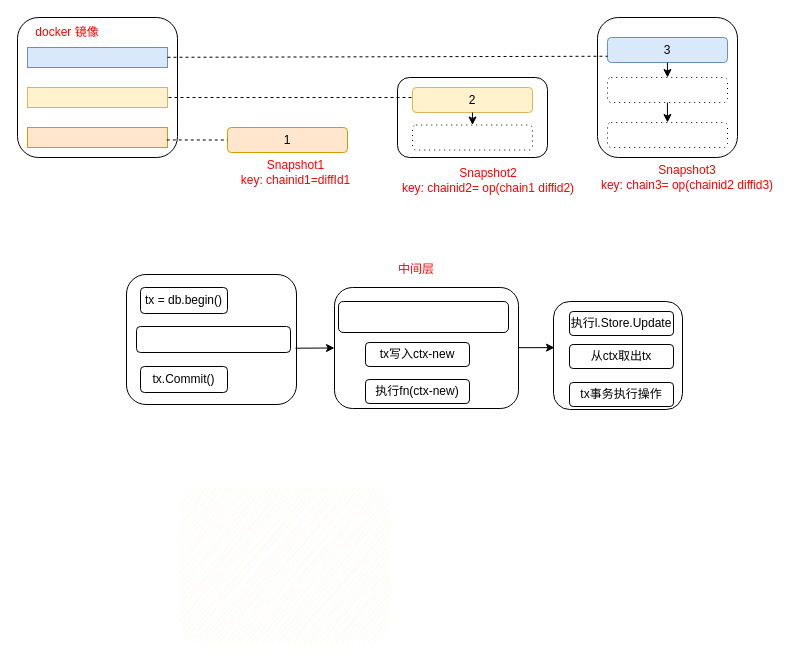
The diagram is 807 pixels wide and 660 high, and some of its shapes have lost their labels. Each missing label, with the centre of its shape:
1.tar.gz: [97,137]
2.tar.gz: [97,97]
3.tar.gz: [97,57]
fn(metadata. WithTransactionContext(ctx, tx): [423,316]
l.withStore(ctx, fn)(tx): [213,339]
